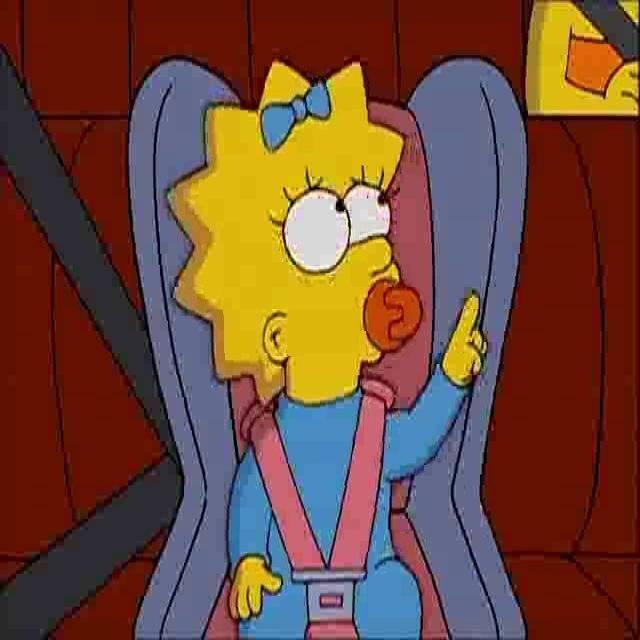Maggie Simpson: (162, 52, 424, 414)
